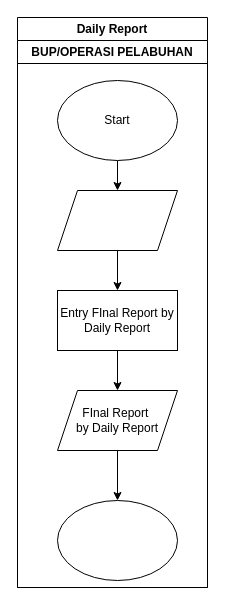
Image size: 225x605. Some labels were removed from this diagram. The centre of each missing label's shape, as x and y in pixels:
"Data Laycan" belongs at point (117, 220).
"End" belongs at point (117, 540).
